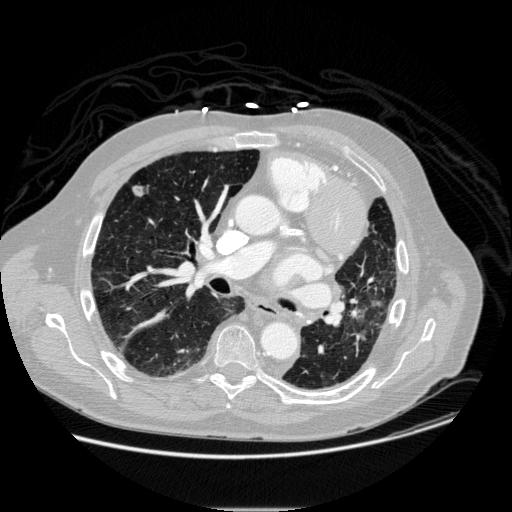nodule: (131, 182, 149, 200)
